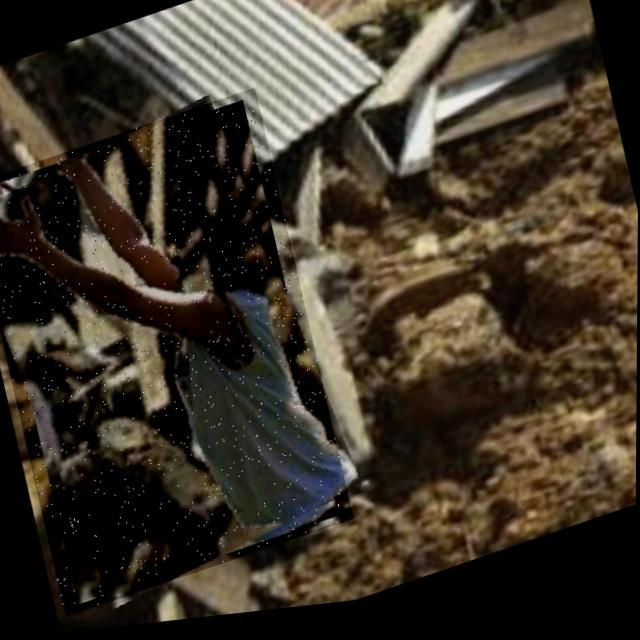Person in Rubble: (0, 84, 356, 624)
